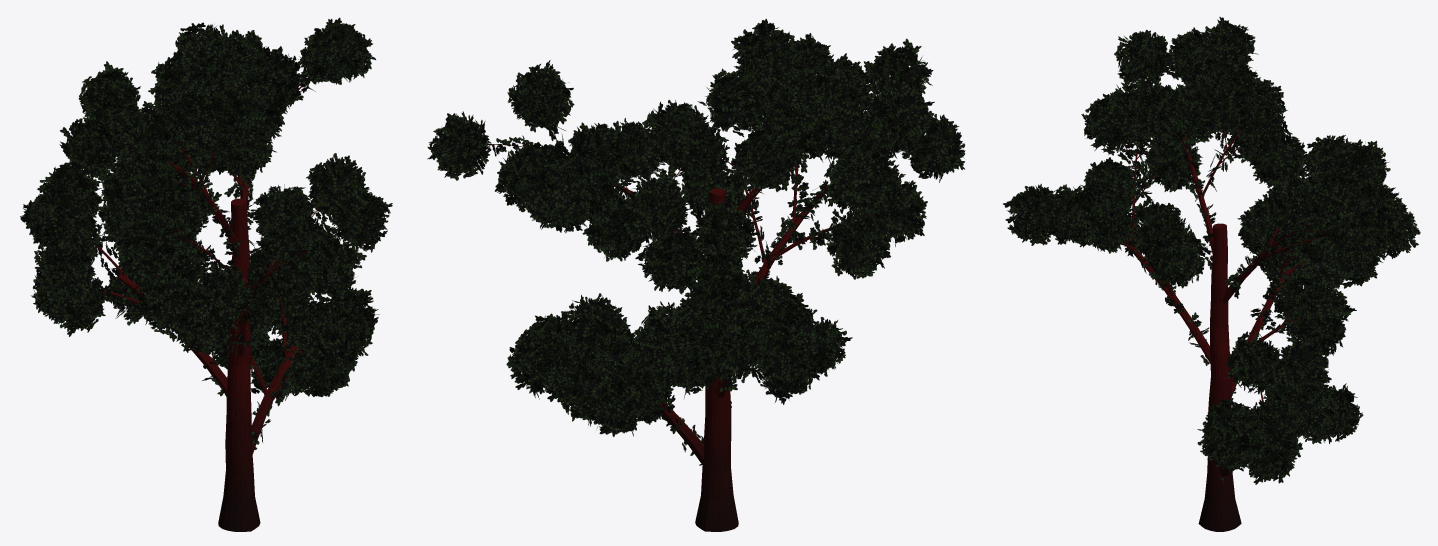
The model's file is evergreen_broad_v02.glb.
3 views of the same model, side by side, from view 1: azimuth 30°, elevation 25°; view 2: azimuth 150°, elevation 25°; view 3: azimuth 270°, elevation 25° (orthographic). The views are drawn at different scales.
Parts seen in each view (by area): view 1: evergreen_broad_v02; view 2: evergreen_broad_v02; view 3: evergreen_broad_v02.
Boxes of the visible parts, x1=… form: evergreen_broad_v02: x1=20, y1=17, x2=392, y2=531; evergreen_broad_v02: x1=427, y1=18, x2=965, y2=531; evergreen_broad_v02: x1=1003, y1=17, x2=1420, y2=531.
Size of the model in its own units: 20.03 by 23.5 by 20.01.
2 materials, 2 textured.
